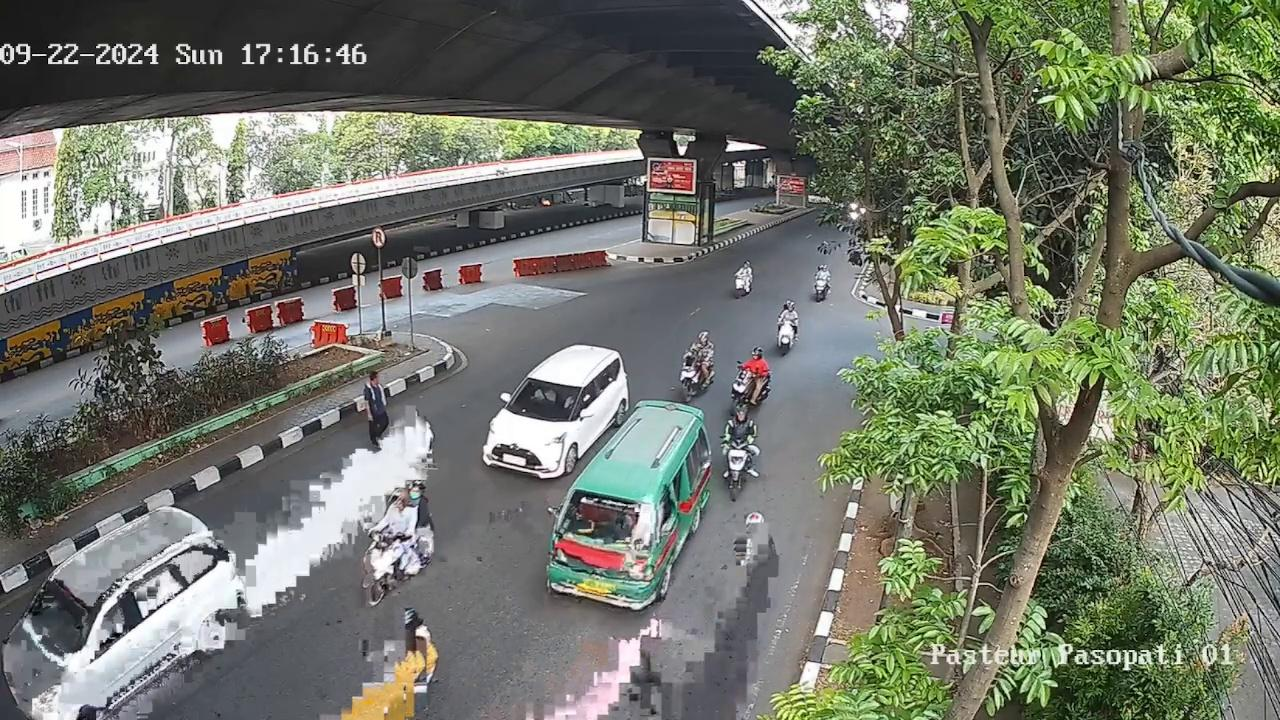pakai: (528, 385, 556, 404)
windshield: (560, 489, 659, 546), (511, 376, 579, 420)
